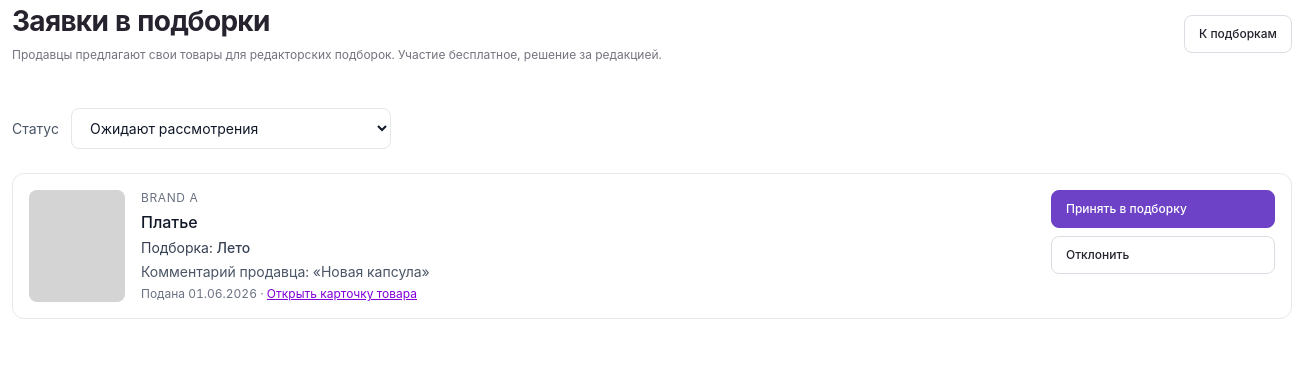
it: AdminCollectionSubmissions › rejects with a reason that is sent to the API
Click the button with test id "reject-s1": (1163,255) [1051,236,1275,274]
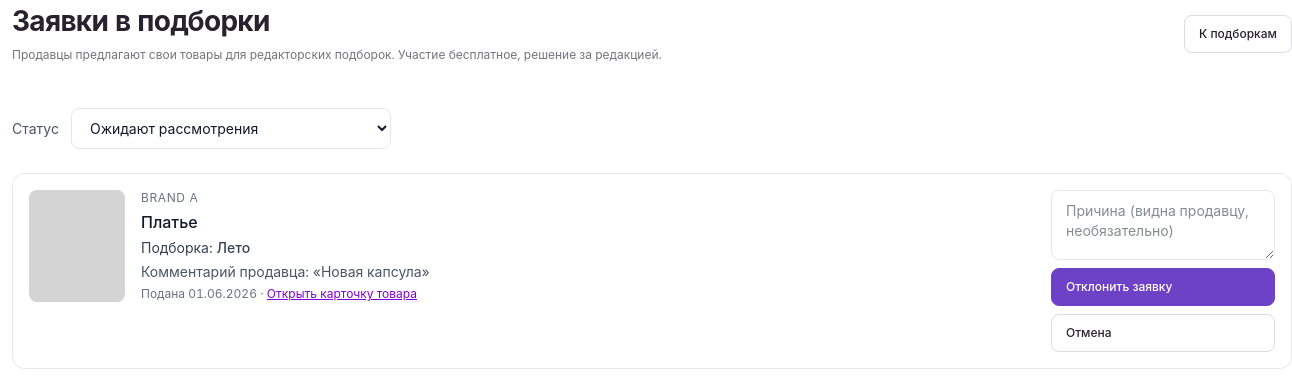
In the text box named "Причина отклонения": (1163,225) [1051,190,1275,260], type " Не подходит по теме "
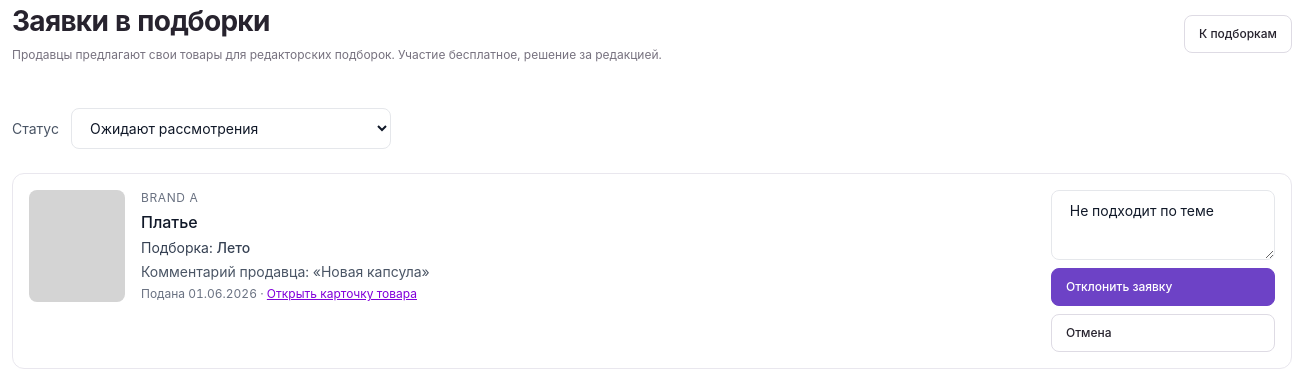
Click the button with test id "confirm-reject-s1": (1163,287) [1051,268,1275,306]
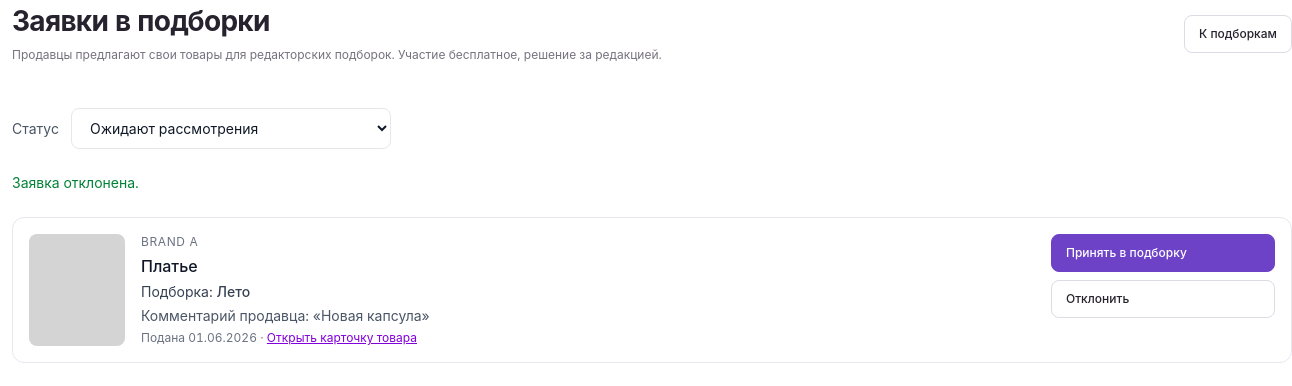
Expected: the message shows "отклонена", [12,174,139,191]
